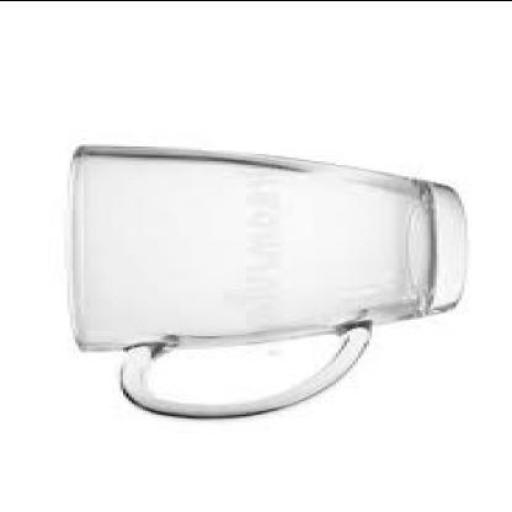glass: (68, 144, 462, 416)
